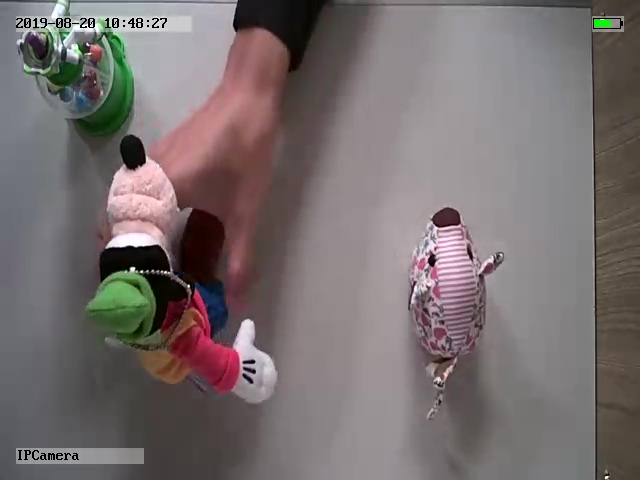buzz: (13, 2, 138, 131)
goofy: (81, 132, 280, 408)
pig: (405, 203, 505, 421)
